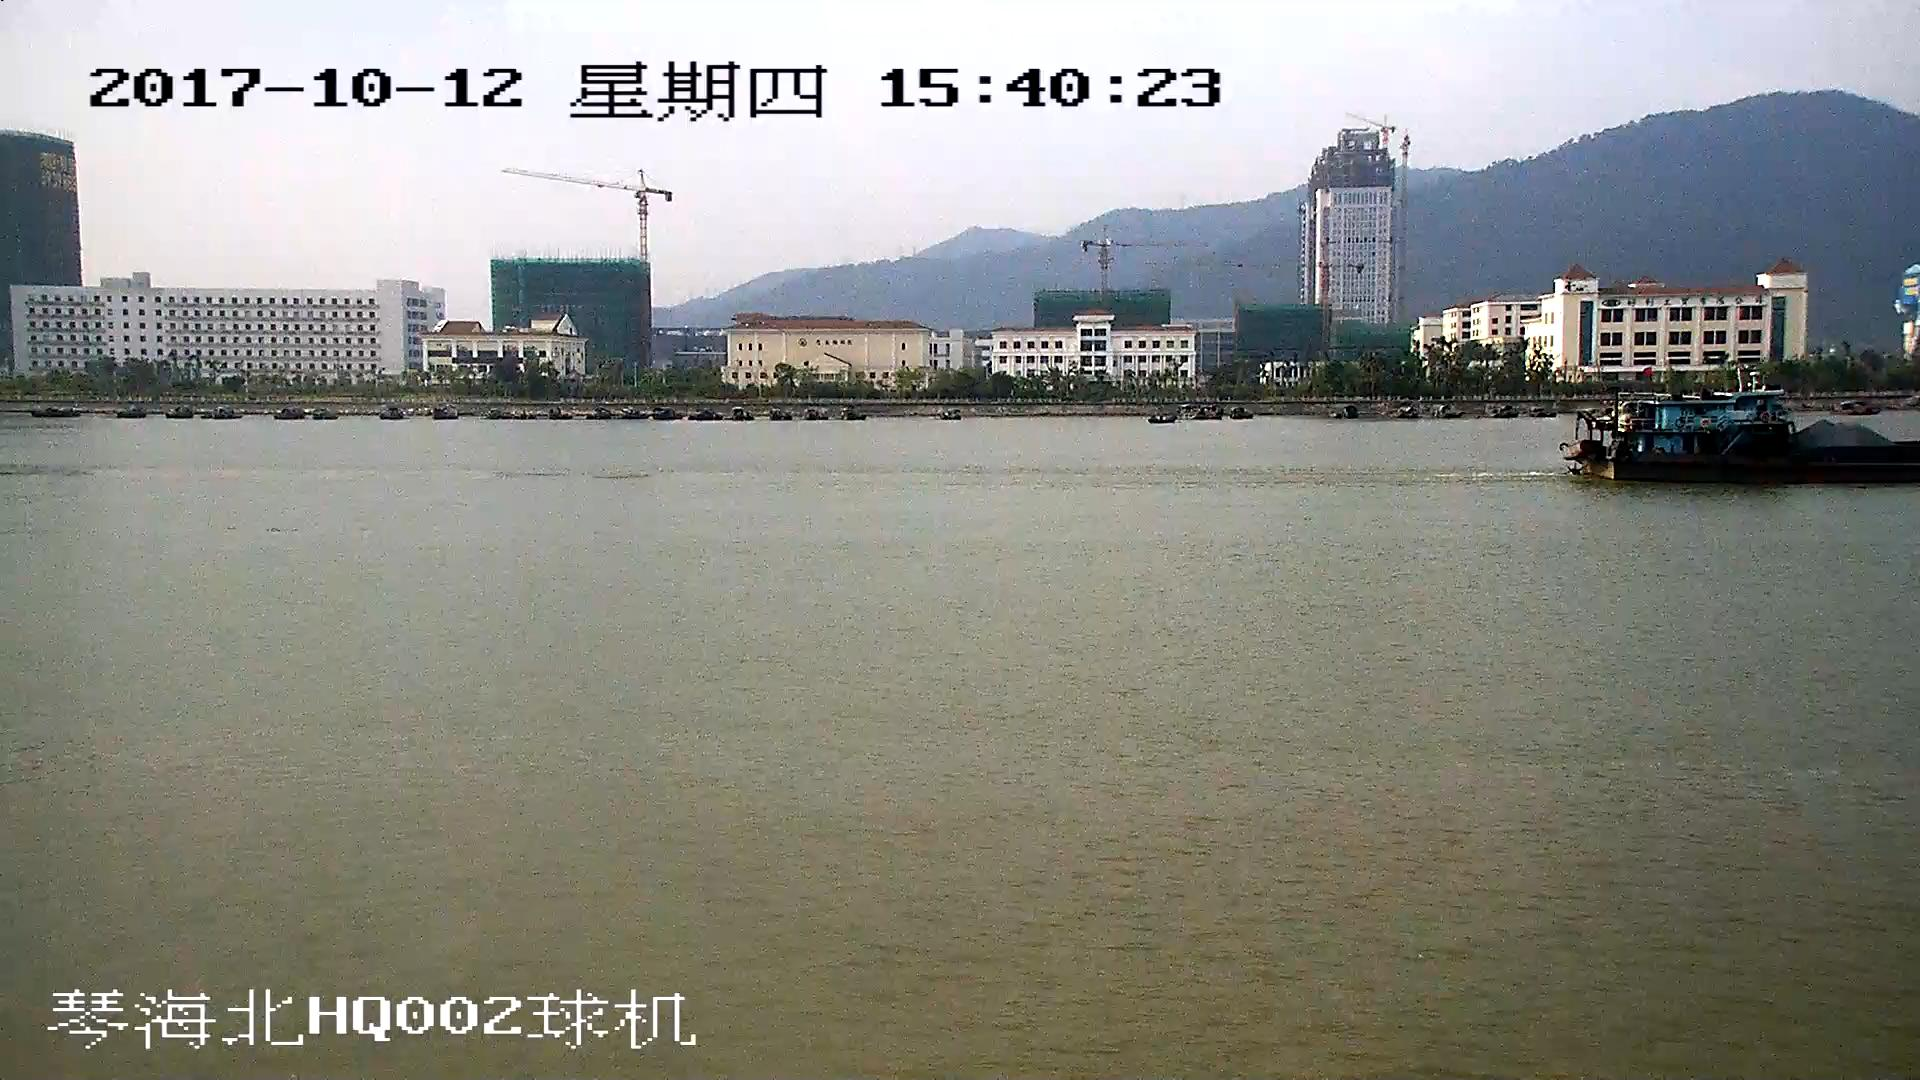ore carrier: (1573, 398, 1920, 489)
